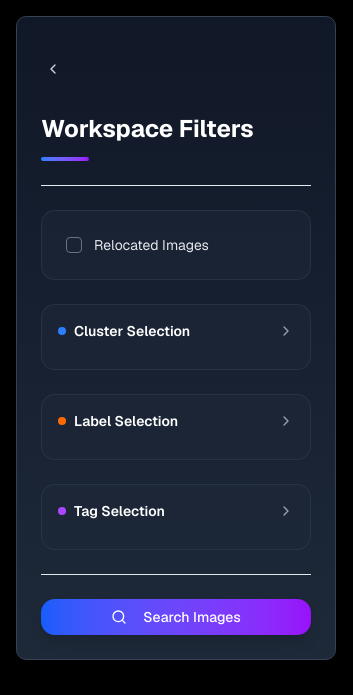
Test: FilterSidebar › label selection › renders label checkboxes grouped by label name
The image size is (353, 695).
Note: Click to expand label section
Click the text "Label Selection": (126, 421) [74,411,178,431]
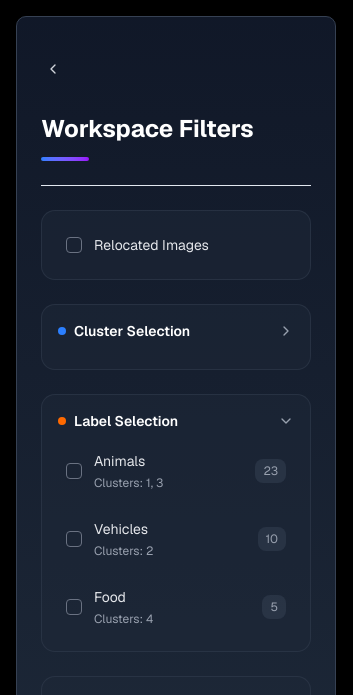
Expected: the text "Animals" is shown, [94,452,145,470]
Expected: the text "Vehicles" is shown, [94,520,148,538]
Expected: the text "Food" is shown, [94,588,126,606]
